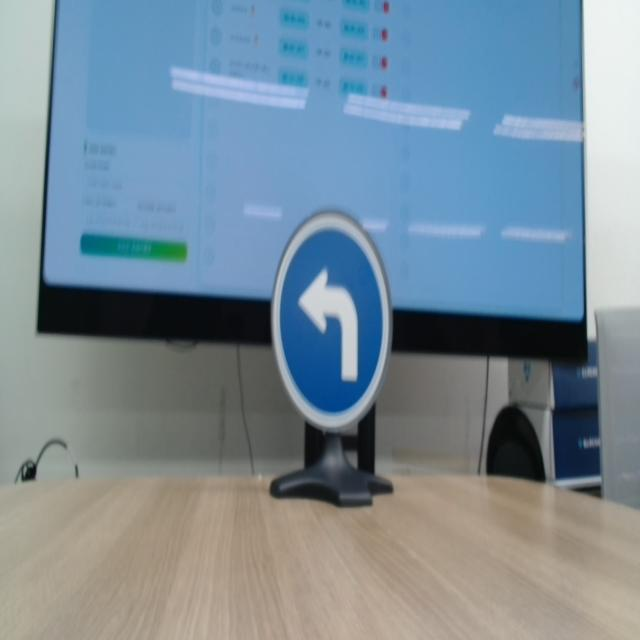left_direction: (266, 203, 392, 434)
